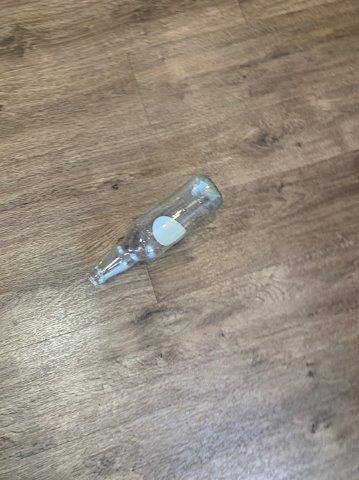botolkaca: (87, 175, 224, 284)
